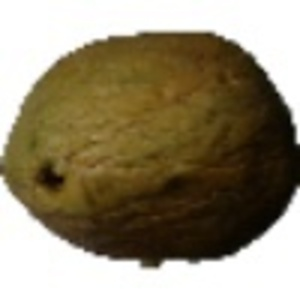mamão: (4, 20, 298, 267)
